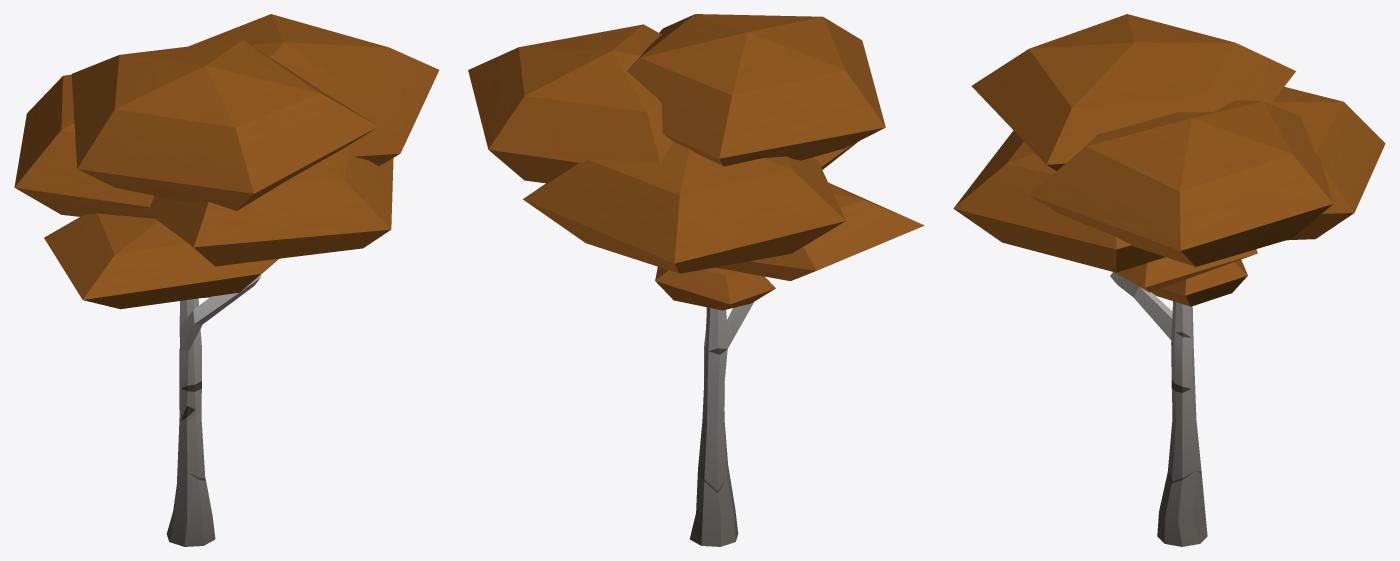
Rendered from arbol14.fbx.
3 renders of one model, left to right at view 1: azimuth 30°, elevation 25°; view 2: azimuth 150°, elevation 25°; view 3: azimuth 270°, elevation 25°, orthographic.
Parts seen in each view (by area): view 1: arbol14; view 2: arbol14; view 3: arbol14.
Part boxes in pixels (left/top/right/bottom): arbol14: left=14, top=14, right=439, bottom=546; arbol14: left=468, top=14, right=924, bottom=546; arbol14: left=953, top=14, right=1385, bottom=546.
Size of the model in its own units: 2037 by 2343 by 1877.
